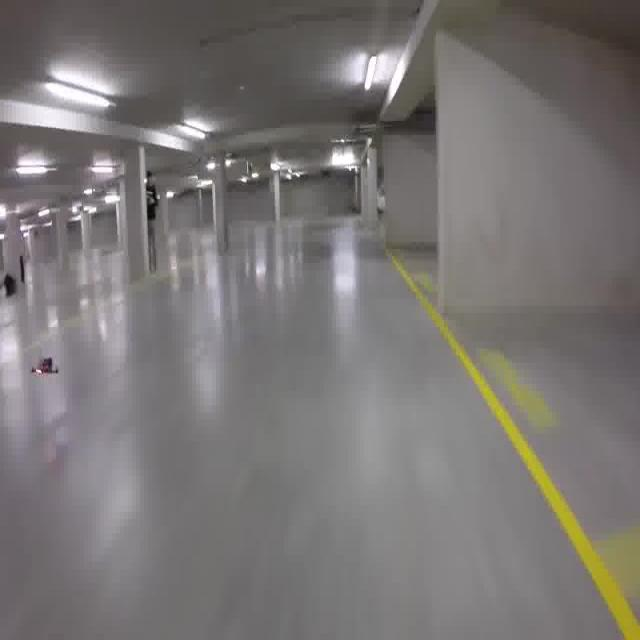drone: (30, 353, 62, 380)
